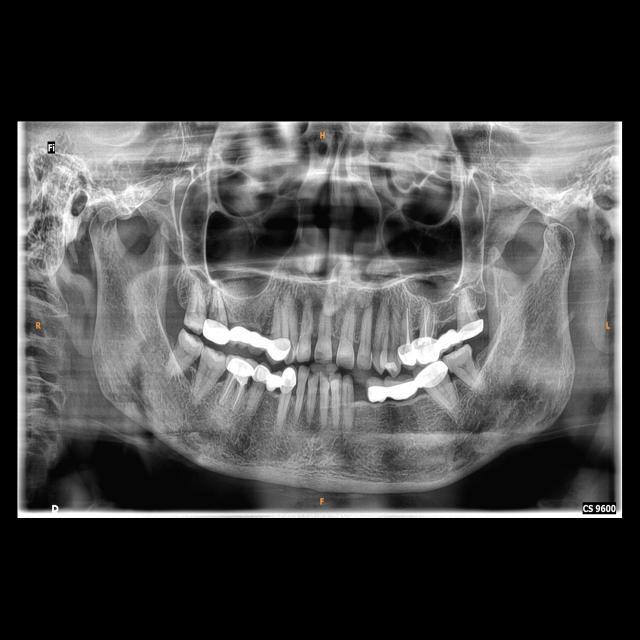dolgu: (226, 356, 257, 381)
kanal-tedavisi: (222, 374, 244, 416), (417, 304, 438, 338), (402, 304, 413, 348)
kaplama: (411, 358, 452, 394), (201, 317, 231, 349), (455, 316, 486, 342), (265, 337, 292, 362), (412, 337, 440, 361), (400, 340, 417, 370), (251, 363, 270, 386), (280, 368, 296, 395)
kopru: (367, 361, 451, 412), (433, 316, 490, 359), (228, 323, 273, 357), (261, 367, 288, 395)
